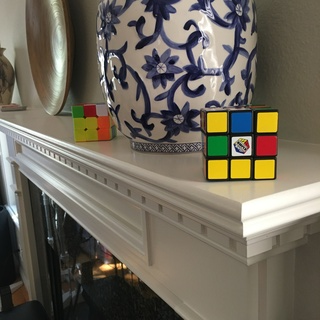face: (206, 111, 278, 179), (70, 105, 111, 141)
